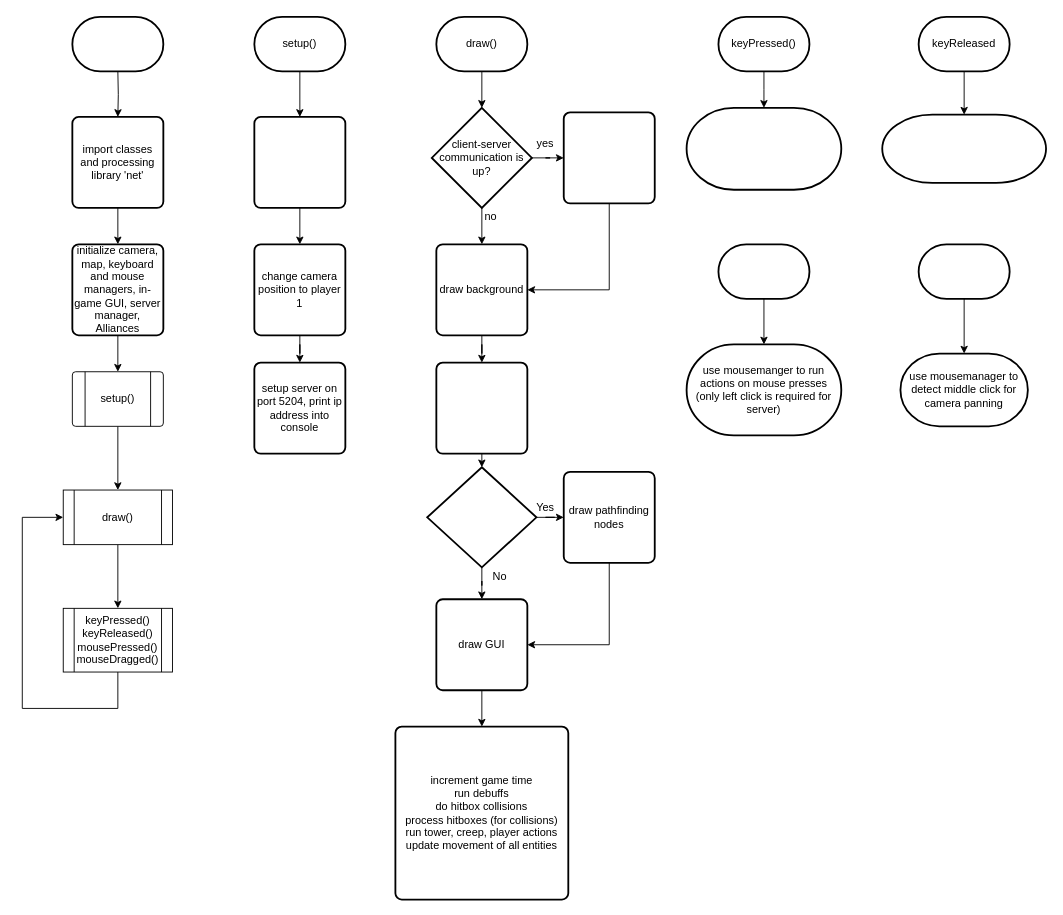
This 1063x915 diagram has some shape labels left out. Each missing label, with the centre of its shape:
developer mode enabled?: the point at 481,517
mouseDragged(): the point at 963,271
mousePressed(): the point at 763,271
move camera draw map draw structures draw creeps draw players: the point at 481,407
set framerate (and server tick rate), screen size, load map: the point at 299,162
start game: the point at 117,43
use keymanager to remove released key action from being processed: the point at 963,148
use keymanager to run actions on specific key presses (like wasd to pan camera): the point at 763,148
use server manager to send data to clients: the point at 608,157
